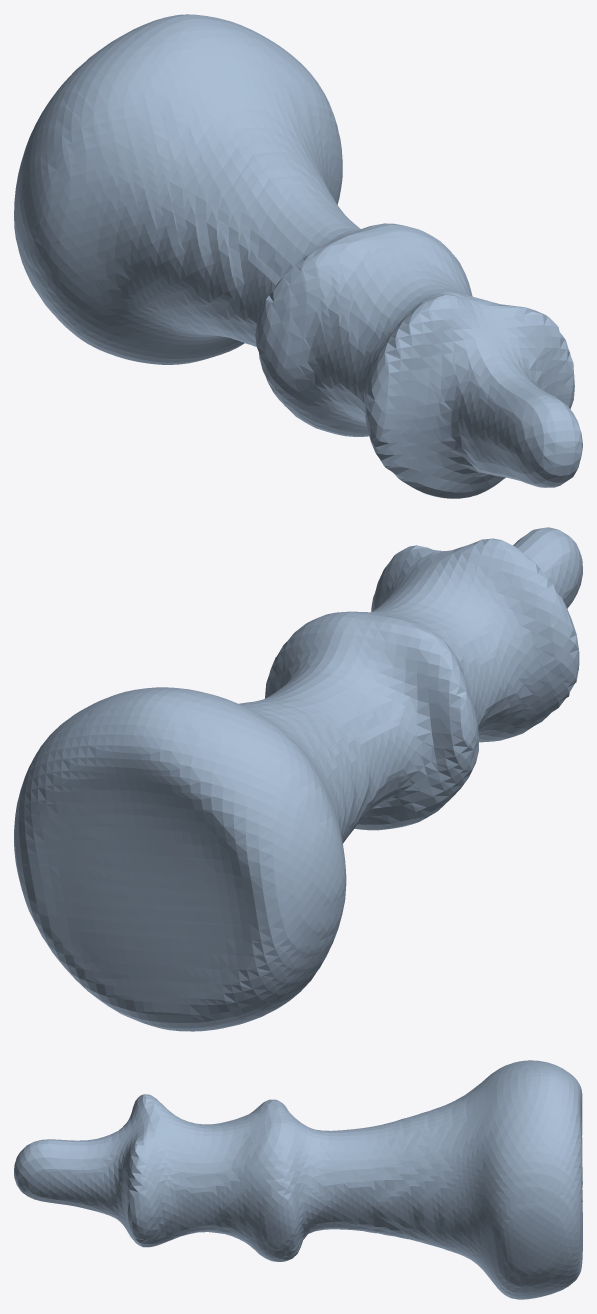
3 renders of one model, top to bottom at view 1: azimuth 30°, elevation 25°; view 2: azimuth 150°, elevation 25°; view 3: azimuth 270°, elevation 25°, orthographic. The views are drawn at different scales.
Parts seen in each view (by area): view 1: ours_mesh; view 2: ours_mesh; view 3: ours_mesh.
Part boxes in pixels (<box>): ours_mesh: <box>14,14,582,498</box>; ours_mesh: <box>14,527,582,1031</box>; ours_mesh: <box>14,1060,582,1299</box>.
Bounding box in the file's own units: 0.2454 × 0.2534 × 0.5989.
